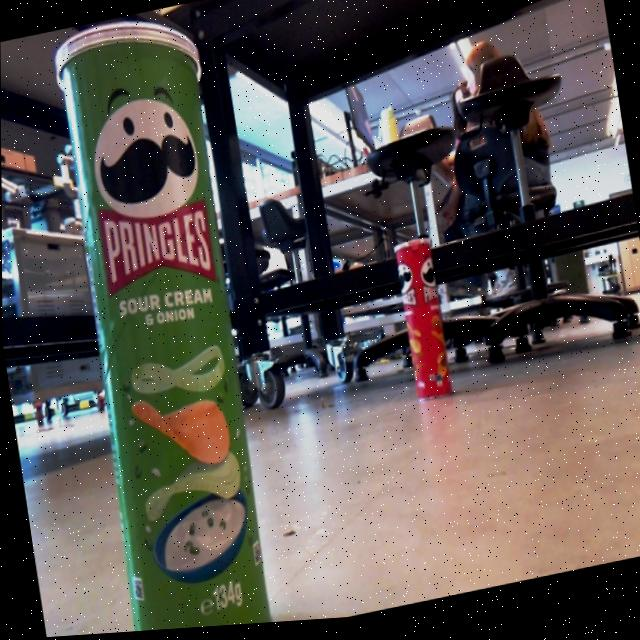greenpringles: (22, 0, 297, 639)
redpringles: (379, 226, 465, 423)
